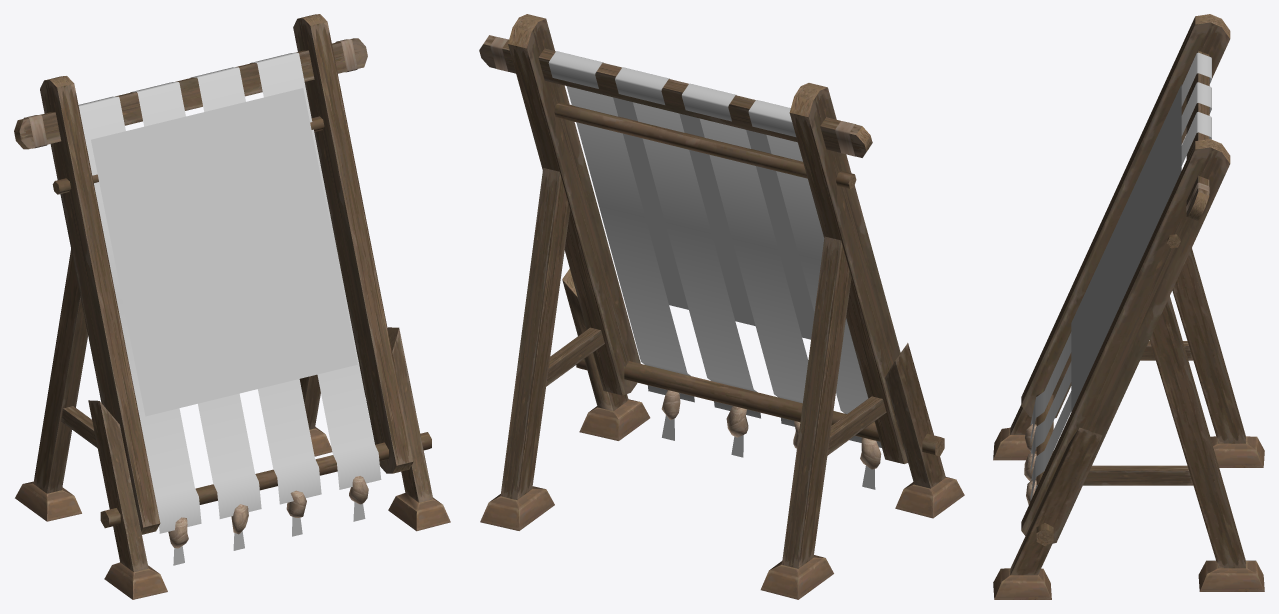
Rendered from Homeworld_Exterior_Xm_Build_Stall_01_Lod0.fbx.
The picture shows the model from 3 angles, left to right: view 1: azimuth 30°, elevation 25°; view 2: azimuth 150°, elevation 25°; view 3: azimuth 270°, elevation 25°; orthographic projection. The views are drawn at different scales.
Parts seen in each view (by area): view 1: Area_Xm_Prop_XKC_Chengshijiaju_11_Lod0; view 2: Area_Xm_Prop_XKC_Chengshijiaju_11_Lod0; view 3: Area_Xm_Prop_XKC_Chengshijiaju_11_Lod0.
Boxes of the visible parts, x1,y1,x2,y2 form: Area_Xm_Prop_XKC_Chengshijiaju_11_Lod0: (14, 14, 450, 599); Area_Xm_Prop_XKC_Chengshijiaju_11_Lod0: (479, 14, 964, 599); Area_Xm_Prop_XKC_Chengshijiaju_11_Lod0: (993, 14, 1264, 599).
Bounding box in the file's own units: 1.89 × 2.27 × 1.27.
